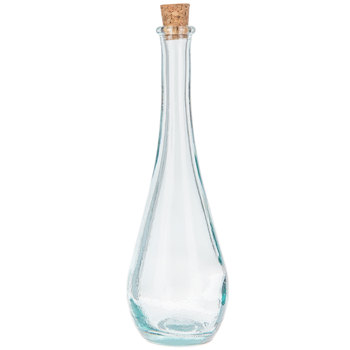glass_bottle: (123, 2, 229, 348)
